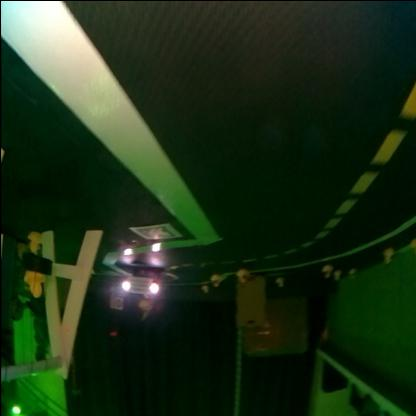Duckie: (26, 270, 42, 296), (27, 231, 41, 253), (236, 268, 248, 282), (384, 249, 393, 264), (323, 264, 332, 274), (276, 278, 282, 286), (202, 285, 207, 292), (350, 271, 354, 276), (334, 273, 336, 279)
Duckiebot: (122, 274, 164, 301)
QR code: (128, 224, 180, 240)
